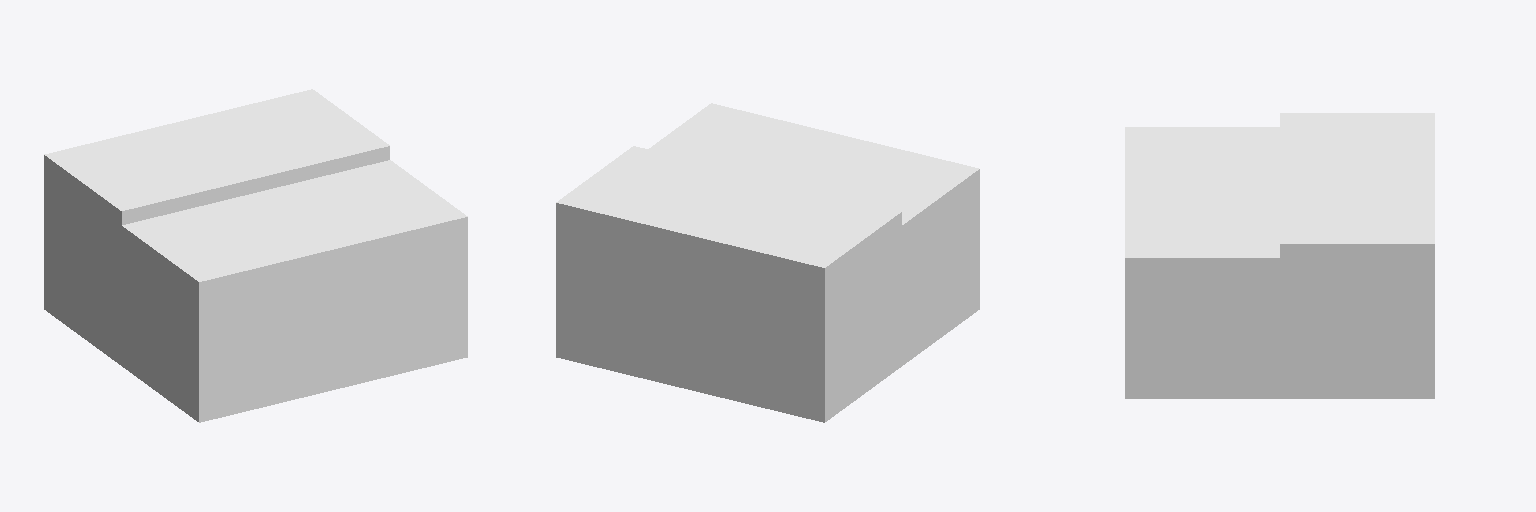
Rendered from Road_1.obj.
3 renders of one model, left to right at view 1: azimuth 30°, elevation 25°; view 2: azimuth 150°, elevation 25°; view 3: azimuth 270°, elevation 25°, orthographic.
Visible parts, largest first — view 1: Road_1; view 2: Road_1; view 3: Road_1.
Boxes of the visible parts, x1=… form: Road_1: x1=44, y1=89, x2=467, y2=422; Road_1: x1=556, y1=103, x2=979, y2=422; Road_1: x1=1125, y1=113, x2=1434, y2=398.
Size of the model in its own units: 20 by 11 by 20.